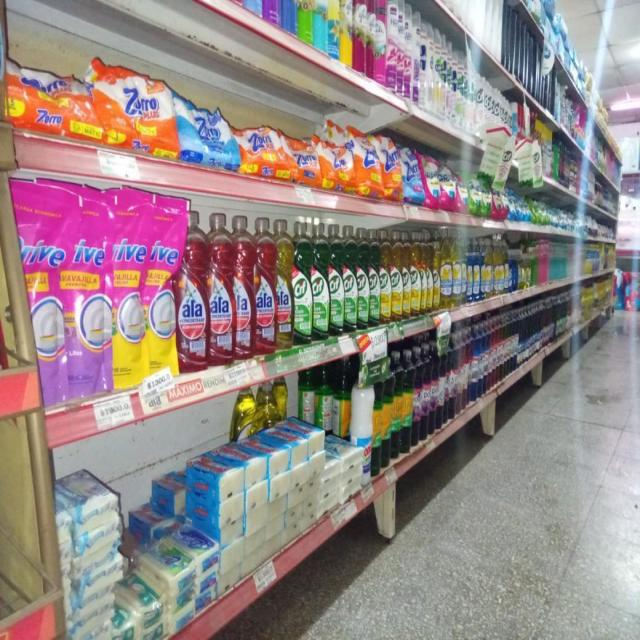ala_conc_amarillo: (276, 218, 292, 350)
ala_conc_rojo: (178, 206, 208, 372), (208, 212, 234, 366), (254, 217, 275, 356), (234, 213, 253, 361)
cif_conc_bot_amarilla: (391, 230, 402, 322), (380, 230, 390, 325), (411, 233, 420, 318), (402, 232, 410, 320), (420, 236, 428, 315), (433, 240, 441, 312), (427, 237, 433, 314)
cif_conc_botella_verde: (293, 220, 311, 345), (312, 220, 328, 341), (329, 224, 343, 336), (344, 225, 356, 333), (357, 226, 369, 330), (369, 228, 379, 327)
